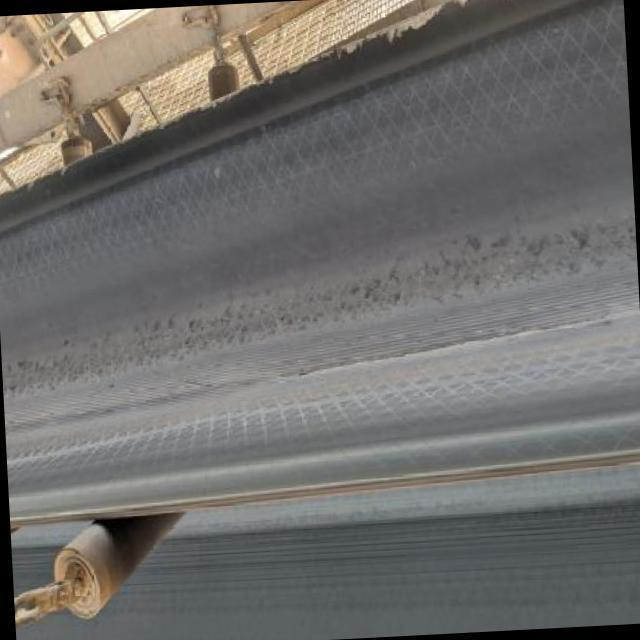Wear: (0, 272, 640, 444)
